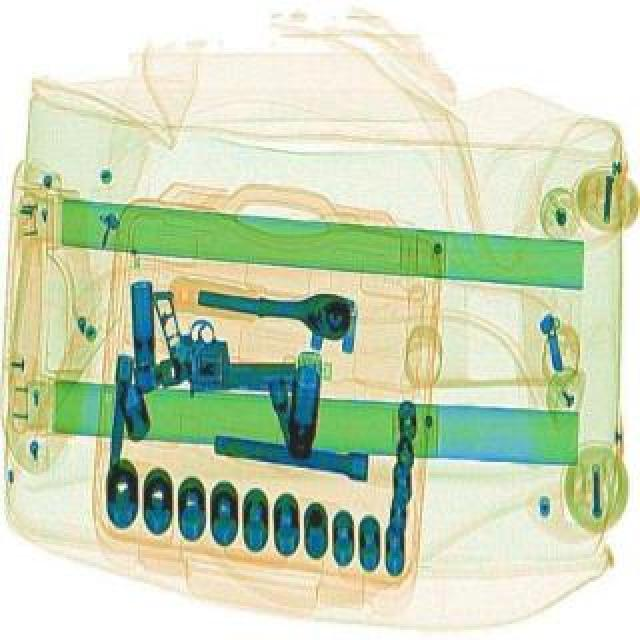gun: (152, 290, 300, 398)
